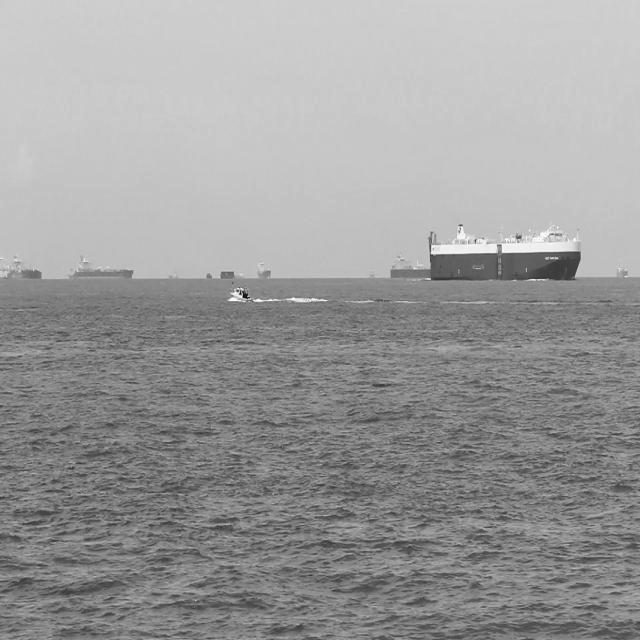ship: (426, 221, 583, 286), (61, 249, 136, 281), (0, 254, 47, 283), (384, 255, 429, 281), (226, 280, 256, 306), (252, 258, 272, 284), (612, 258, 630, 284)
